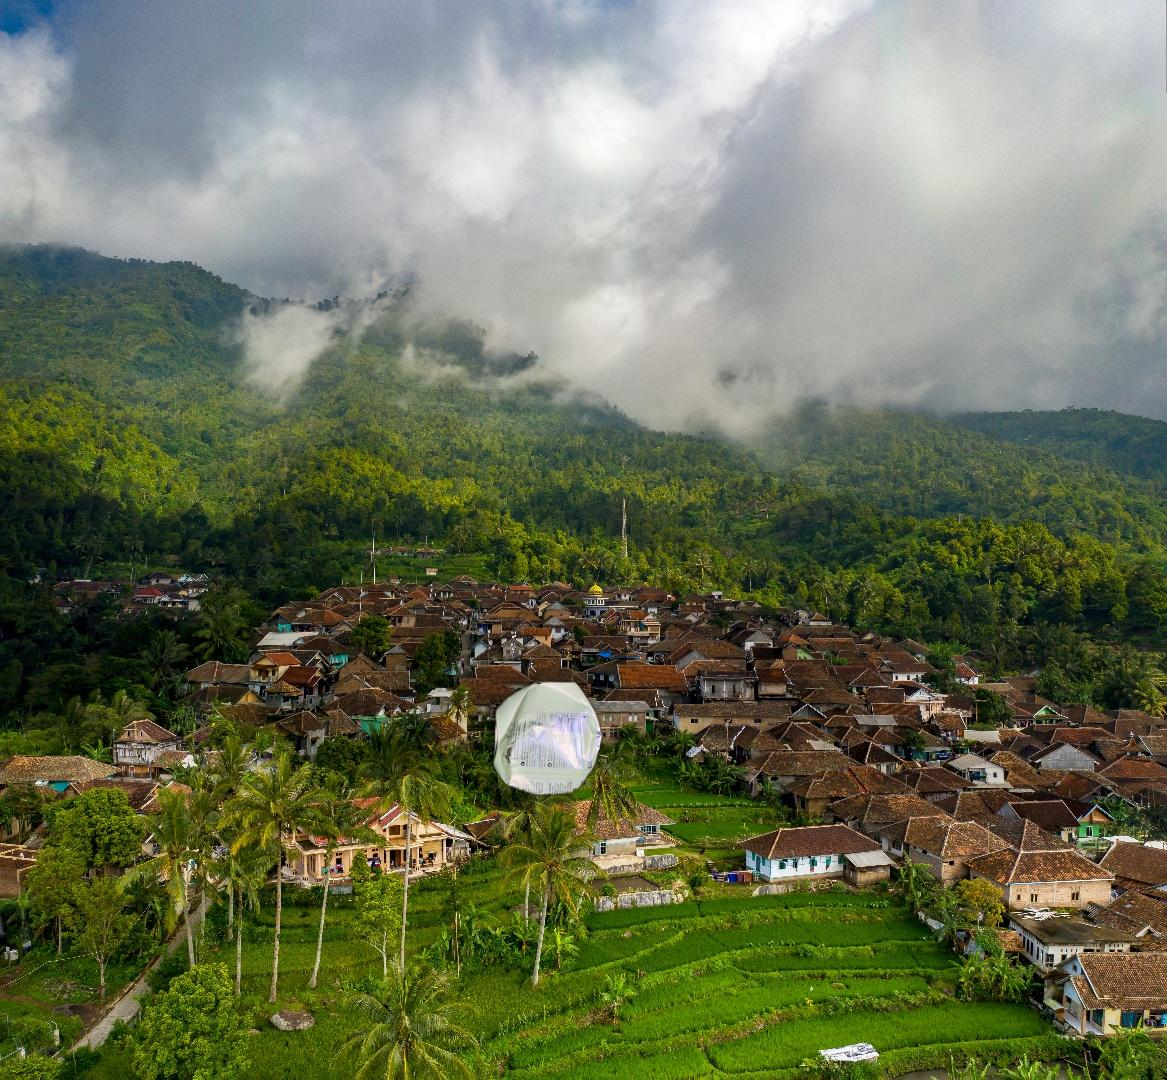glass: (1041, 171, 1167, 495)
metal-cans: (488, 675, 607, 802)
